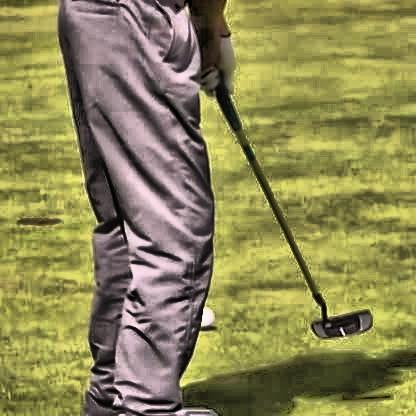golfball: (201, 301, 212, 320)
